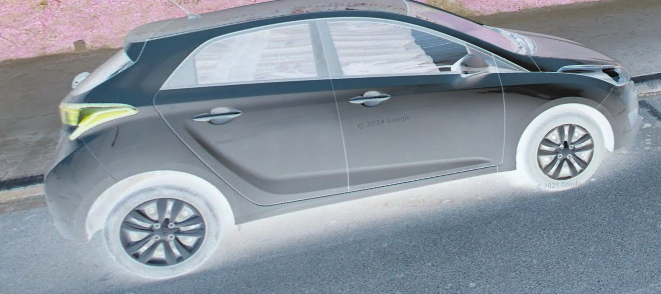car: (44, 1, 640, 279)
